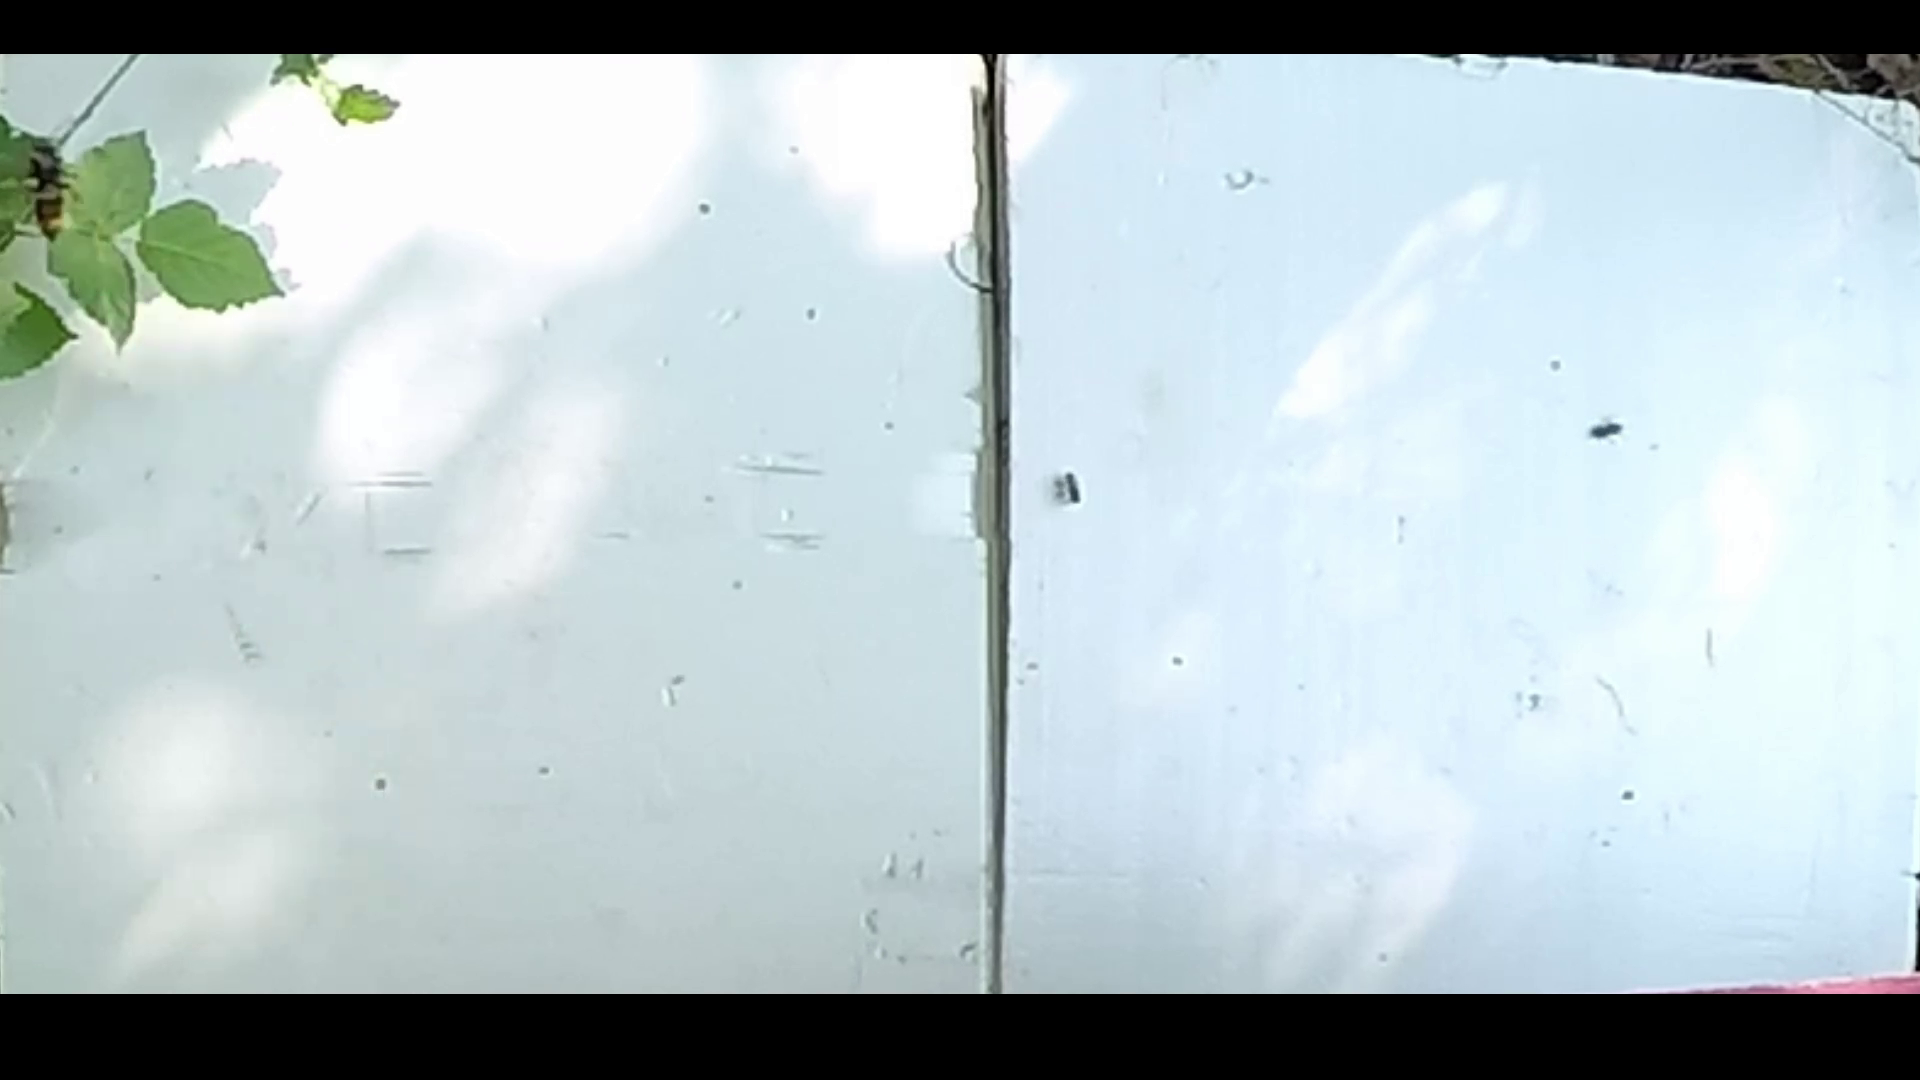Asian_hornets: (7, 119, 104, 255)
